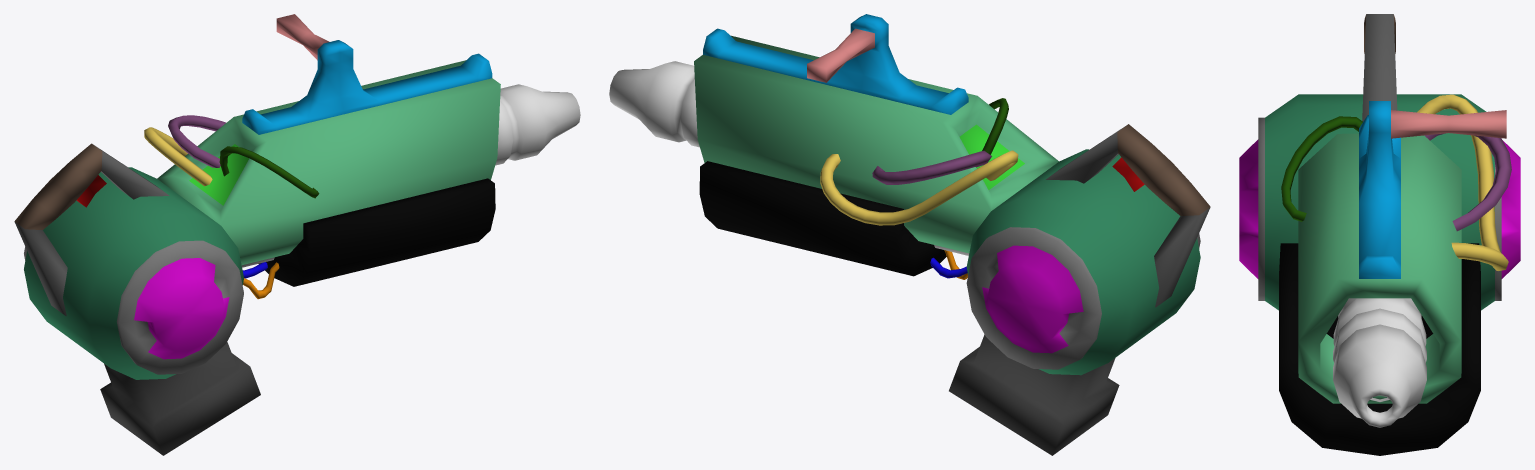
File: ExcaV4.glb
3 renders of one model, left to right at view 1: azimuth 30°, elevation 25°; view 2: azimuth 150°, elevation 25°; view 3: azimuth 270°, elevation 25°, orthographic. The views are drawn at different scales.
Visible parts, largest first — view 1: RightCable_low; view 2: RightCable_low; view 3: RightCable_low.
Boxes of the visible parts, bbox=[...] form: RightCable_low: bbox=[14, 14, 580, 455]; RightCable_low: bbox=[609, 14, 1210, 455]; RightCable_low: bbox=[1239, 14, 1520, 455].
Bounding box in the file's own units: 0.3534 × 0.2101 × 0.1223.
